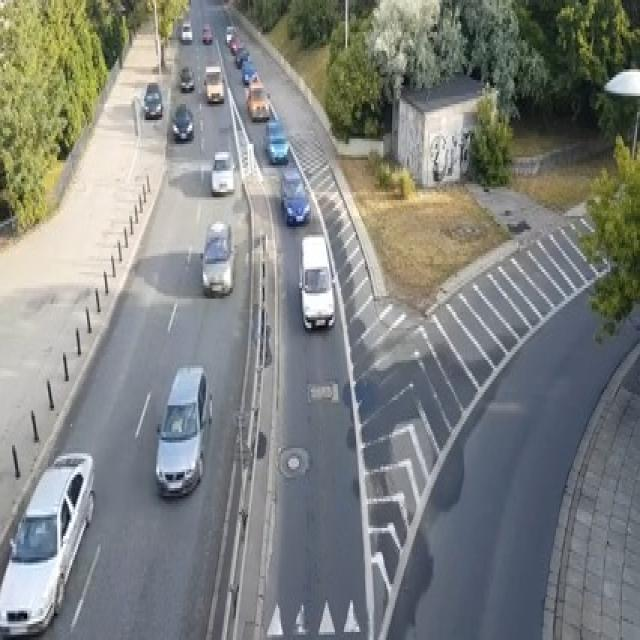car: (0, 451, 95, 637), (155, 363, 212, 496), (297, 232, 335, 331), (202, 219, 234, 296), (279, 165, 311, 224), (263, 117, 288, 163), (210, 149, 234, 195), (245, 83, 270, 120), (171, 102, 194, 142), (203, 64, 224, 101), (141, 83, 162, 117), (240, 58, 257, 82), (179, 64, 194, 91), (234, 45, 250, 67), (228, 35, 244, 53), (179, 21, 192, 43), (224, 24, 236, 45), (201, 21, 212, 43)
